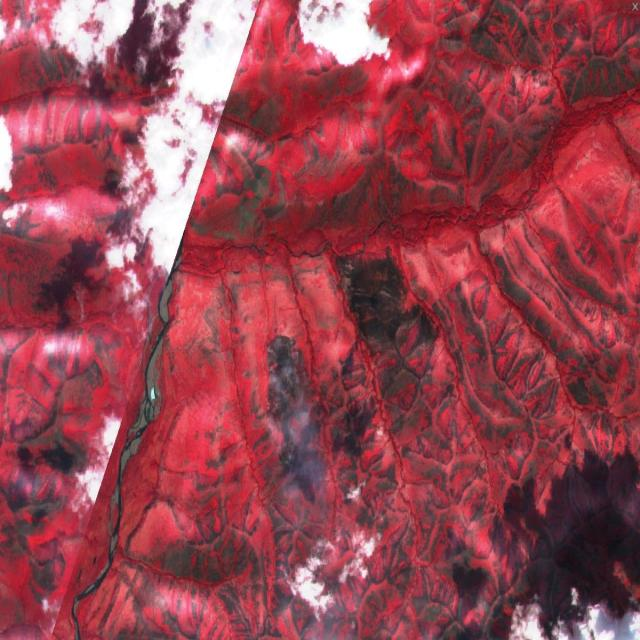fire: (254, 324, 334, 492)
